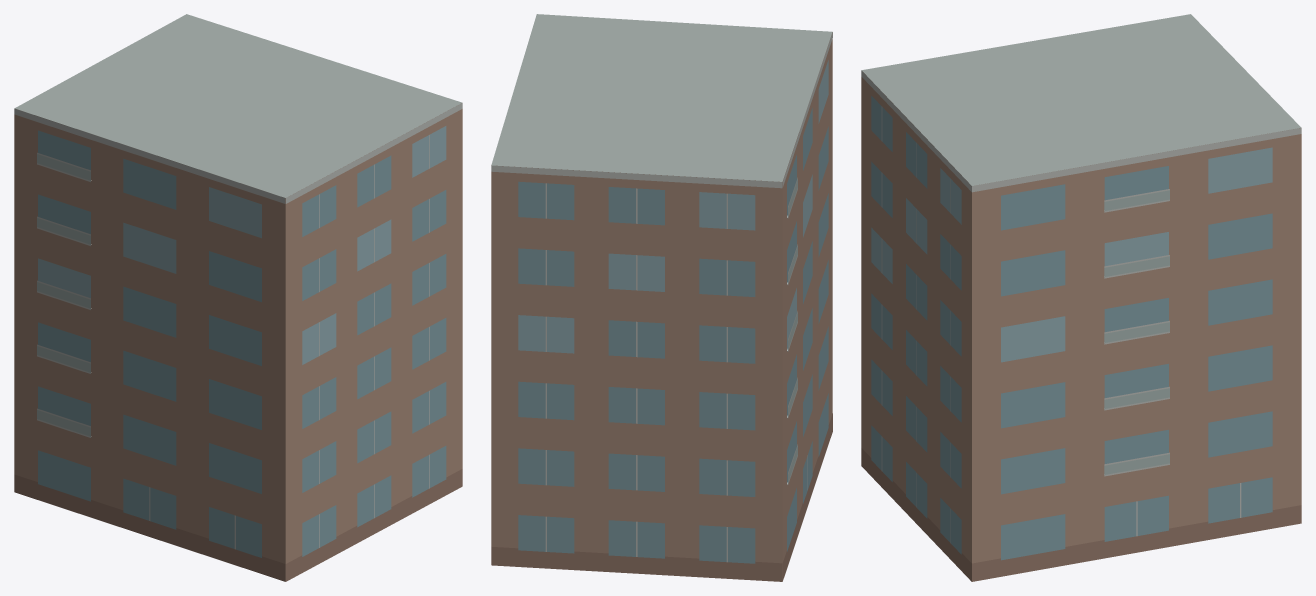
The model's file is survey-upis-33003755.glb.
3 renders of one model, left to right at view 1: azimuth 30°, elevation 25°; view 2: azimuth 150°, elevation 25°; view 3: azimuth 270°, elevation 25°, orthographic. The views are drawn at different scales.
Parts seen in each view (by area): view 1: survey-upis-33003755.tmp; view 2: survey-upis-33003755.tmp; view 3: survey-upis-33003755.tmp.
Part boxes in pixels (x1,y1,x2,y2): survey-upis-33003755.tmp: (14,14,462,581); survey-upis-33003755.tmp: (491,14,832,581); survey-upis-33003755.tmp: (861,14,1301,581).
Size of the model in its own units: 14.42 by 15.45 by 15.58.
